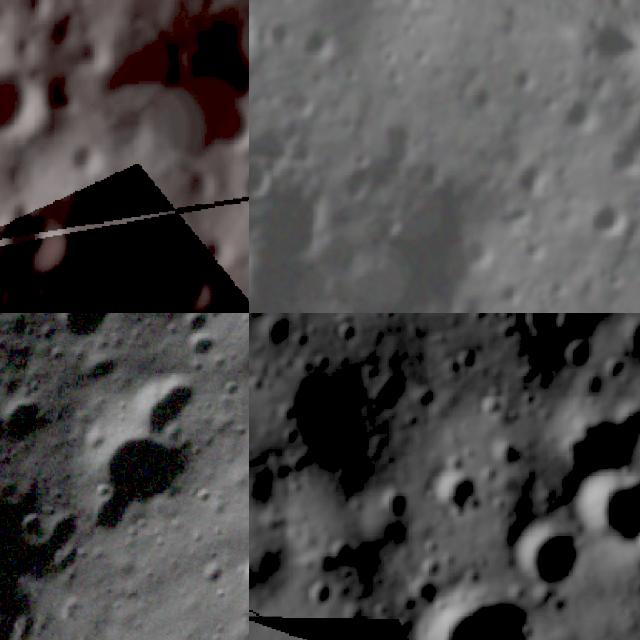crater: (72, 404, 218, 542), (105, 32, 249, 166), (267, 349, 390, 481), (106, 348, 218, 454), (406, 582, 547, 640), (496, 520, 587, 601), (572, 466, 640, 552), (1, 203, 79, 277), (601, 74, 640, 195), (0, 64, 54, 147), (77, 482, 143, 548), (35, 313, 128, 359), (422, 463, 487, 524), (176, 316, 230, 371), (553, 328, 607, 382), (566, 31, 640, 70), (163, 264, 219, 313), (509, 313, 573, 354), (368, 476, 415, 529), (510, 150, 556, 204), (298, 20, 349, 65), (454, 226, 505, 271), (557, 90, 604, 138), (584, 200, 638, 240), (212, 100, 249, 156), (38, 75, 85, 117), (617, 535, 640, 618), (48, 0, 84, 51), (166, 313, 217, 349), (198, 225, 240, 268), (74, 29, 116, 71), (493, 267, 535, 309), (301, 574, 345, 614), (192, 554, 232, 596), (501, 57, 543, 96), (518, 230, 558, 266), (249, 150, 280, 196), (412, 158, 452, 192), (68, 136, 110, 168), (180, 162, 217, 198), (343, 162, 375, 203), (228, 544, 249, 604), (264, 18, 300, 50), (288, 87, 322, 119), (231, 163, 249, 217), (467, 83, 500, 110), (382, 208, 411, 238), (600, 265, 630, 291), (132, 292, 166, 313), (368, 249, 393, 277), (395, 16, 426, 38), (336, 629, 394, 640), (414, 40, 438, 66), (341, 62, 366, 86), (19, 0, 52, 16), (381, 42, 404, 64), (467, 304, 504, 313), (264, 0, 304, 6)
